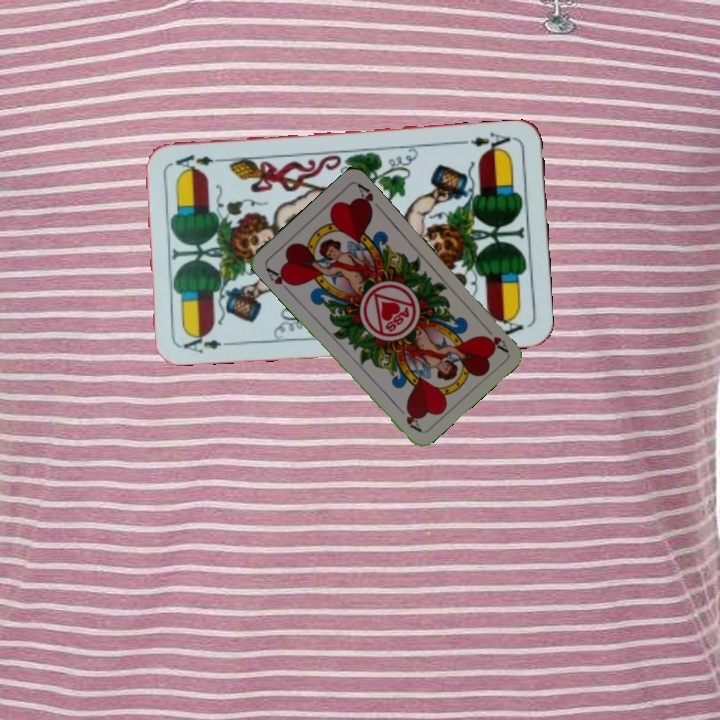EA: (458, 128, 517, 155), (179, 329, 238, 356)
HA: (262, 263, 297, 295), (479, 321, 510, 355)
